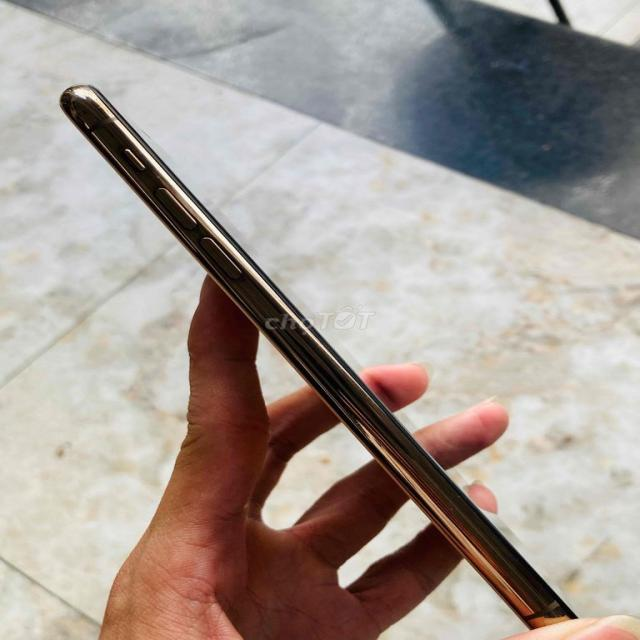gen_11: (49, 72, 578, 636)
